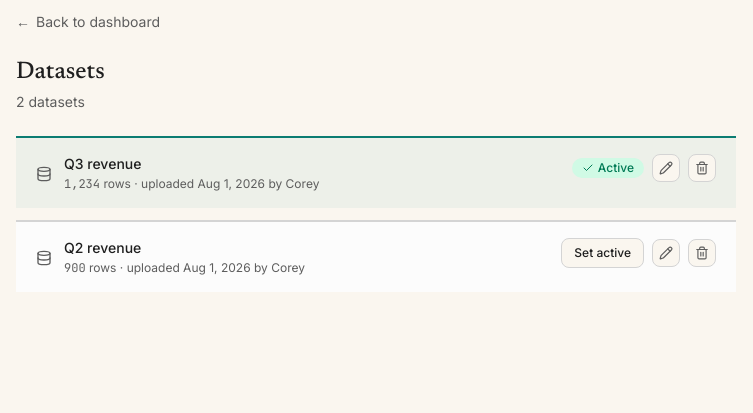
Test: Datasets delete › removes the card once the delete succeeds
Expected: the text "Q3 revenue" is shown, [64,155,142,172]
Click the button named "Delete dataset" in the row of "Q3 revenue" at (702, 168), box [688,154,716,182]
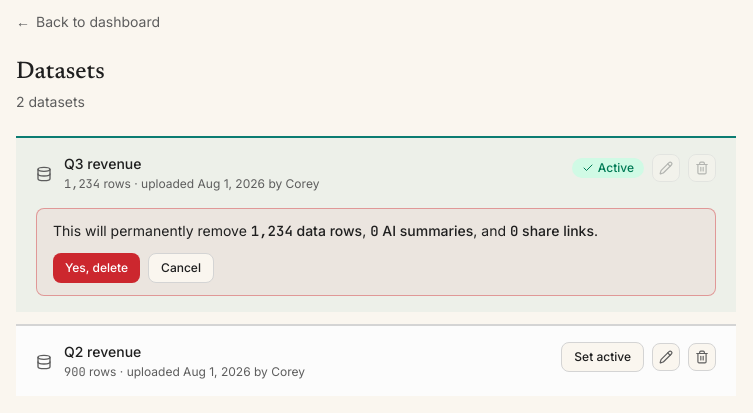
Click the button "Yes, delete" at (97, 268), box [53,253,140,283]
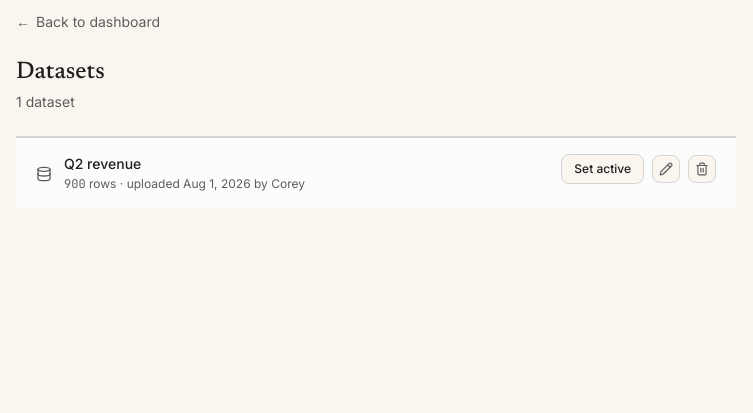
Expected: the text "Q2 revenue" is shown, [64,155,141,172]
Result: the text "Q3 revenue" is gone
